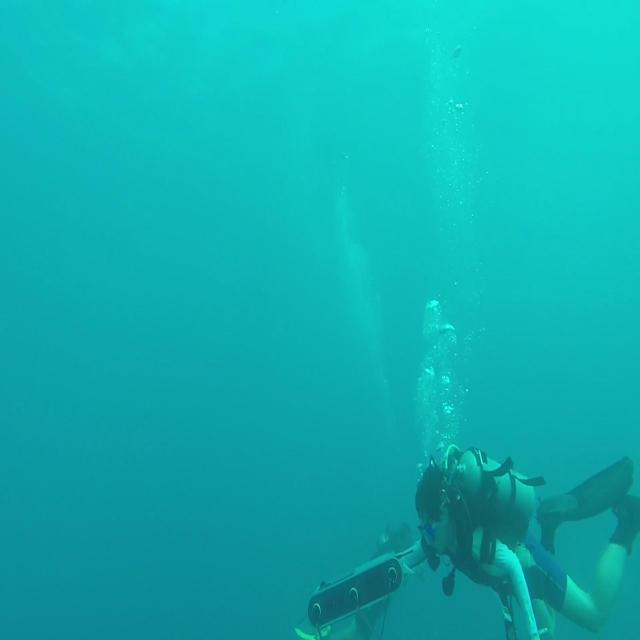human: (415, 443, 639, 638)
